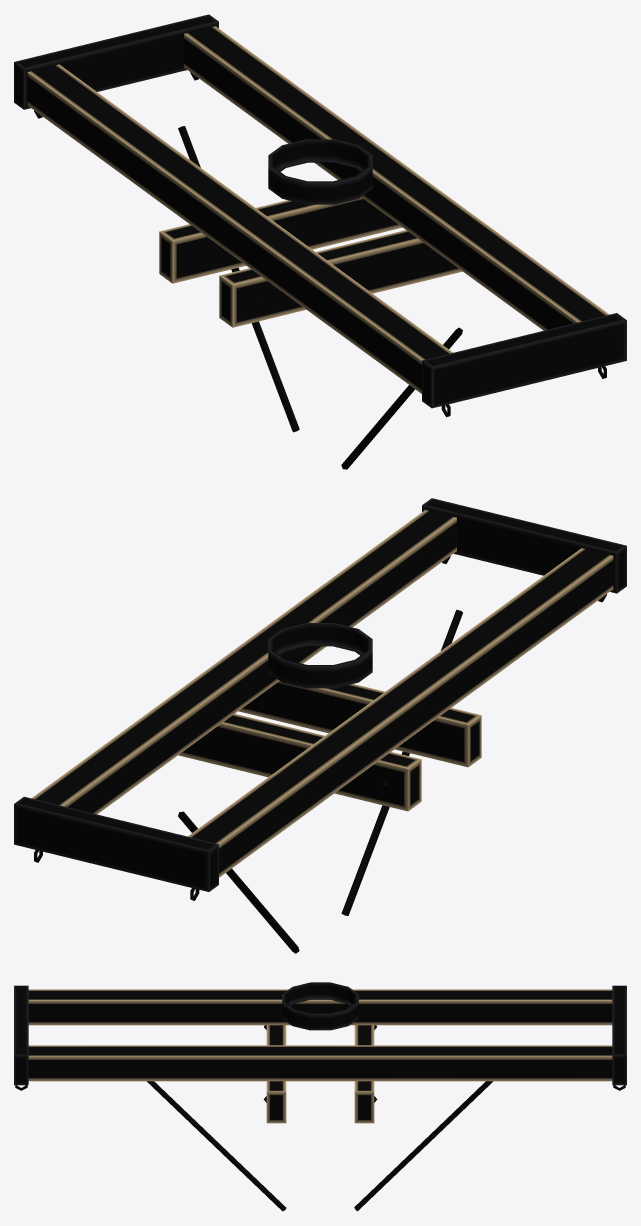
Rendered from crosstree_15.glb.
3 views of the same model, one above another, from view 1: azimuth 30°, elevation 25°; view 2: azimuth 150°, elevation 25°; view 3: azimuth 270°, elevation 25° (orthographic). The views are drawn at different scales.
Visible parts, largest first — view 1: timber, iron; view 2: timber, iron; view 3: timber, iron.
Part boxes in pixels (x1,y1,x2,y2): timber: (27, 26, 609, 393); iron: (14, 14, 626, 469); timber: (31, 510, 613, 877); iron: (14, 498, 626, 953); timber: (28, 989, 612, 1123); iron: (14, 982, 626, 1211).
Size of the model in its own units: 0.86 by 0.9558 by 2.5.
